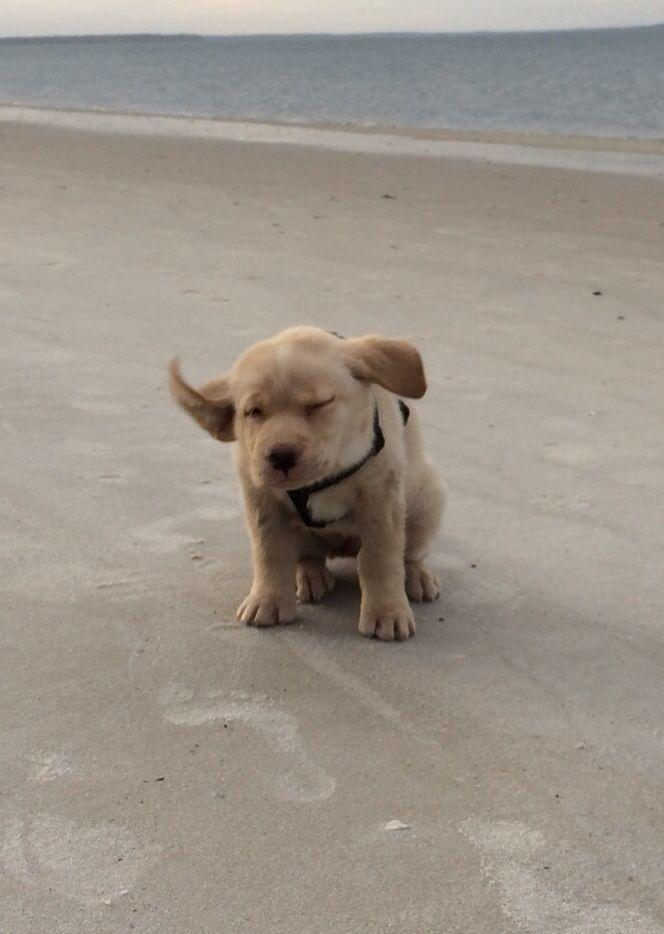puppy-dog: (167, 326, 447, 642)
